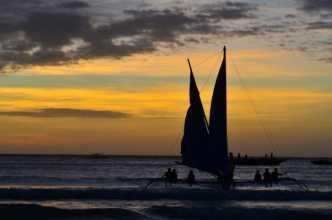fanchuan: (139, 44, 302, 200)
